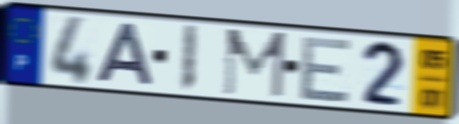2: (359, 39, 408, 111)
4: (48, 13, 95, 87)
A: (92, 21, 157, 89)
E: (297, 35, 354, 104)
I: (178, 22, 199, 95)
M: (221, 27, 289, 101)
